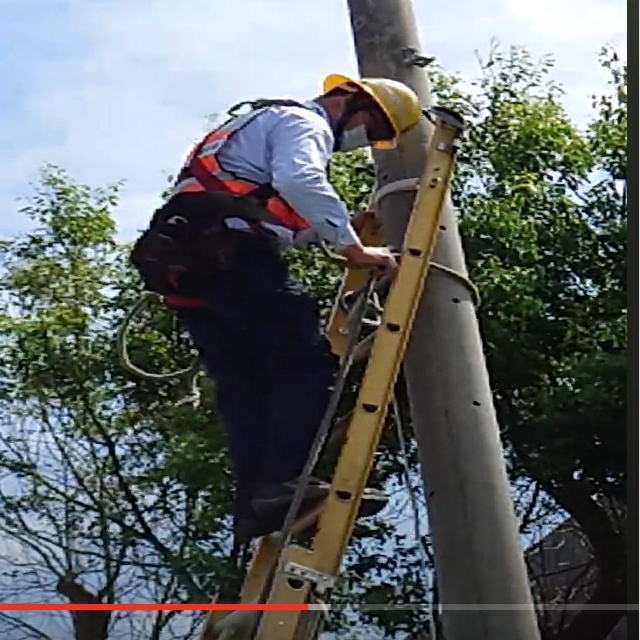Arnes_seguridad: (129, 95, 334, 292)
